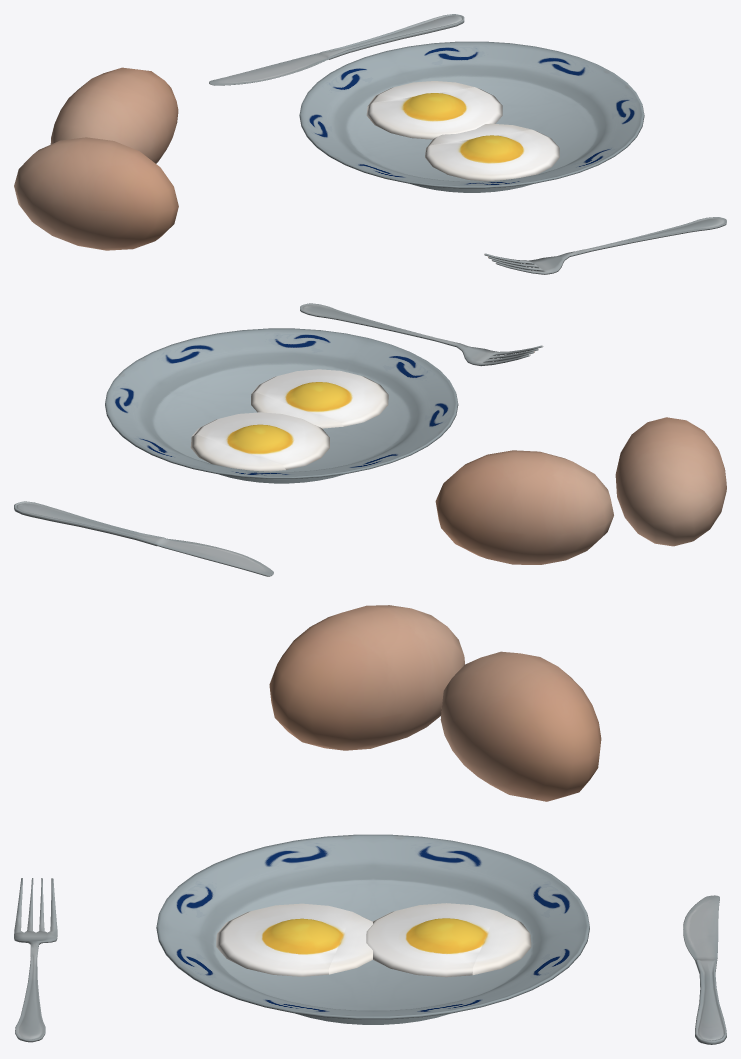
3 views of the same model, one above another, from view 1: azimuth 30°, elevation 25°; view 2: azimuth 150°, elevation 25°; view 3: azimuth 270°, elevation 25° (orthographic). The views are drawn at different scales.
Parts seen in each view (by area): view 1: panzi, jidan1, jidan2, jiandan1, jiandan2_1, dao, cha, Object01, jiandan2_2; view 2: panzi, jidan2, jidan1, jiandan1, jiandan2_1, dao, cha, Object01, jiandan2_2; view 3: panzi, jidan1, jidan2, jiandan1, jiandan2_1, dao, cha, Object01, jiandan2_2.
Part boxes in pixels (box(x1,y1,x2,y2)): panzi: box(299, 41, 644, 188); jidan1: box(14, 137, 178, 250); jidan2: box(50, 67, 178, 163); jiandan1: box(425, 123, 559, 181); jiandan2_1: box(366, 87, 502, 139); dao: box(209, 14, 464, 85); cha: box(484, 217, 726, 274); Object01: box(367, 81, 473, 106); jiandan2_2: box(411, 184, 532, 192); panzi: box(105, 328, 458, 479); jidan2: box(435, 450, 613, 564); jidan1: box(615, 417, 726, 546); jiandan1: box(251, 369, 388, 428); jiandan2_1: box(192, 412, 329, 469); dao: box(14, 501, 273, 576); cha: box(300, 303, 543, 366); Object01: box(190, 434, 285, 471); jiandan2_2: box(219, 474, 344, 483); panzi: box(156, 834, 589, 1019); jidan1: box(269, 605, 464, 750); jidan2: box(440, 651, 601, 801); jiandan1: box(216, 903, 372, 976); jiandan2_1: box(366, 903, 496, 977); dao: box(683, 895, 726, 1044); cha: box(14, 878, 57, 1042); Object01: box(472, 911, 531, 974); jiandan2_2: box(296, 1013, 451, 1024).
Bounding box in the file's own units: 36.12 × 6.15 × 30.32.
